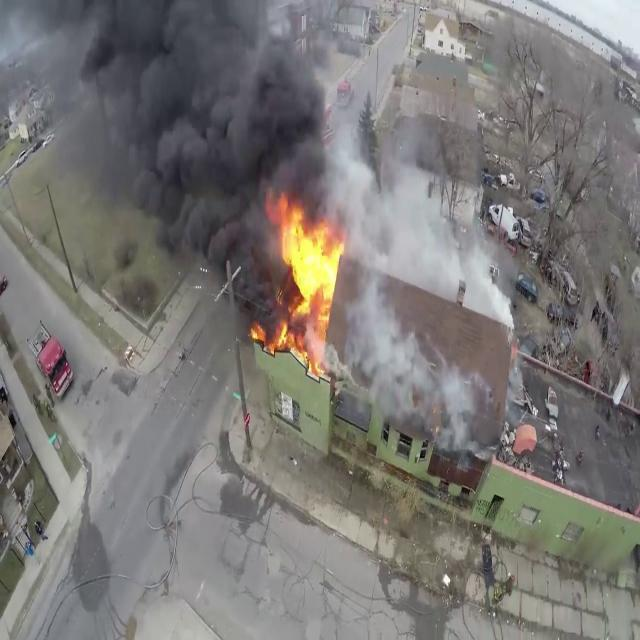Fire: (263, 197, 349, 364)
Smoke: (77, 0, 356, 260), (331, 124, 514, 322)
